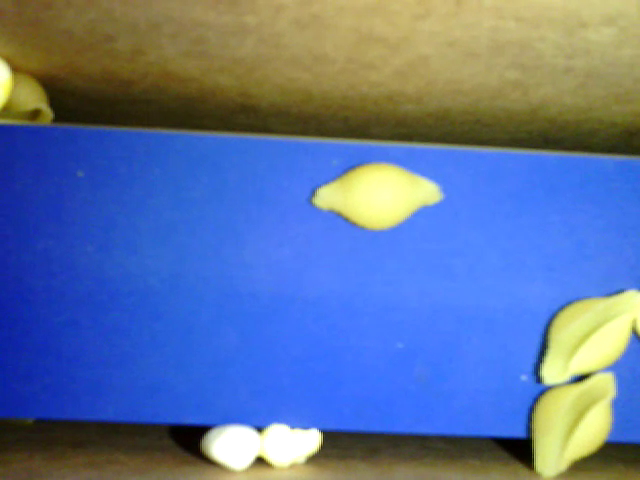shell: (536, 289, 638, 384), (309, 162, 444, 231), (530, 371, 618, 476), (1, 71, 54, 125)
